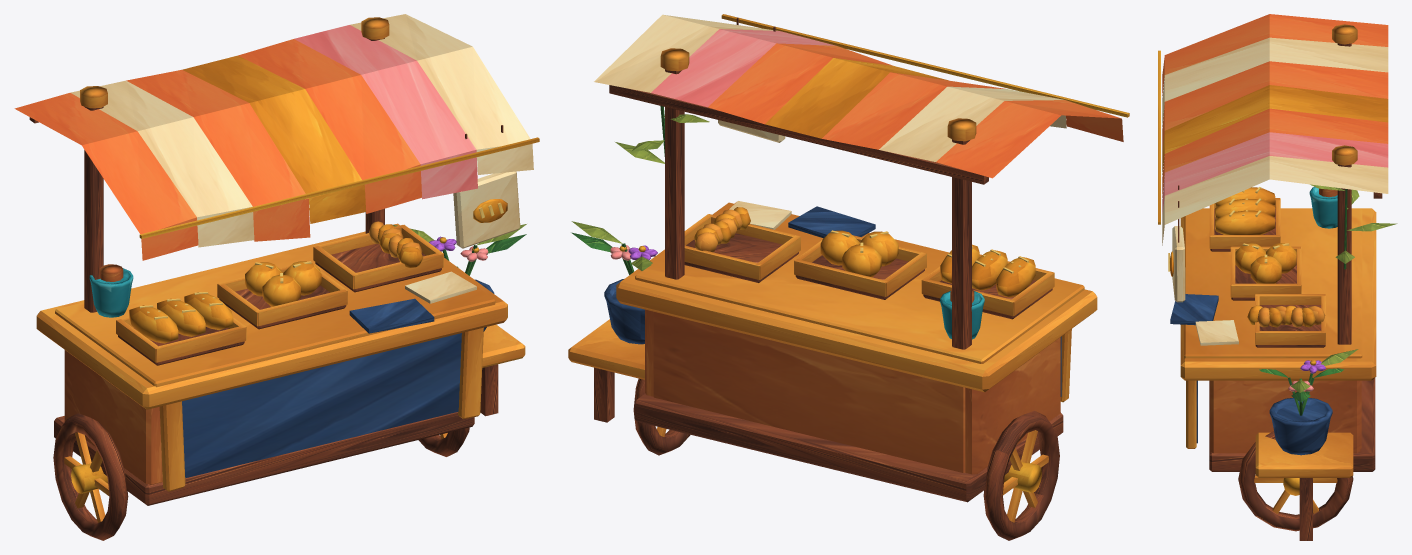
Rendered from bloomwalker_painterly_bread_cart.glb.
3 views of the same model, side by side, from view 1: azimuth 30°, elevation 25°; view 2: azimuth 150°, elevation 25°; view 3: azimuth 270°, elevation 25° (orthographic). The views are drawn at different scales.
Visible parts, largest first — view 1: bread_cart; view 2: bread_cart; view 3: bread_cart.
Boxes of the visible parts, left/top/right/bottom form: bread_cart: left=14, top=14, right=539, bottom=540; bread_cart: left=568, top=14, right=1129, bottom=540; bread_cart: left=1158, top=14, right=1397, bottom=540.
Size of the model in its own units: 2.72 by 2.32 by 1.37.
3 materials, 3 textured.
